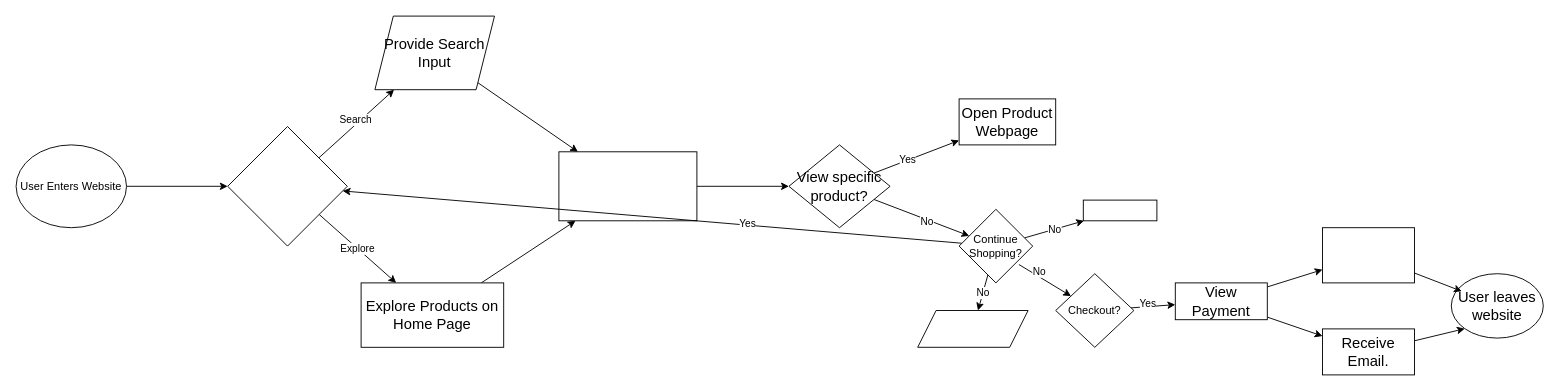
The diagram is 1559 pixels wide and 391 high, and some of its shapes have lost their labels. The centre of each missing label's shape, as x and y in pixels:
"Begin looking over products" belongs at (627,186).
"Input Payment Information" belongs at (972,328).
"Order Confirmation Screen." belongs at (1368,255).
"Search and Explore" belongs at (287,186).
"View Cart" belongs at (1119,210).
